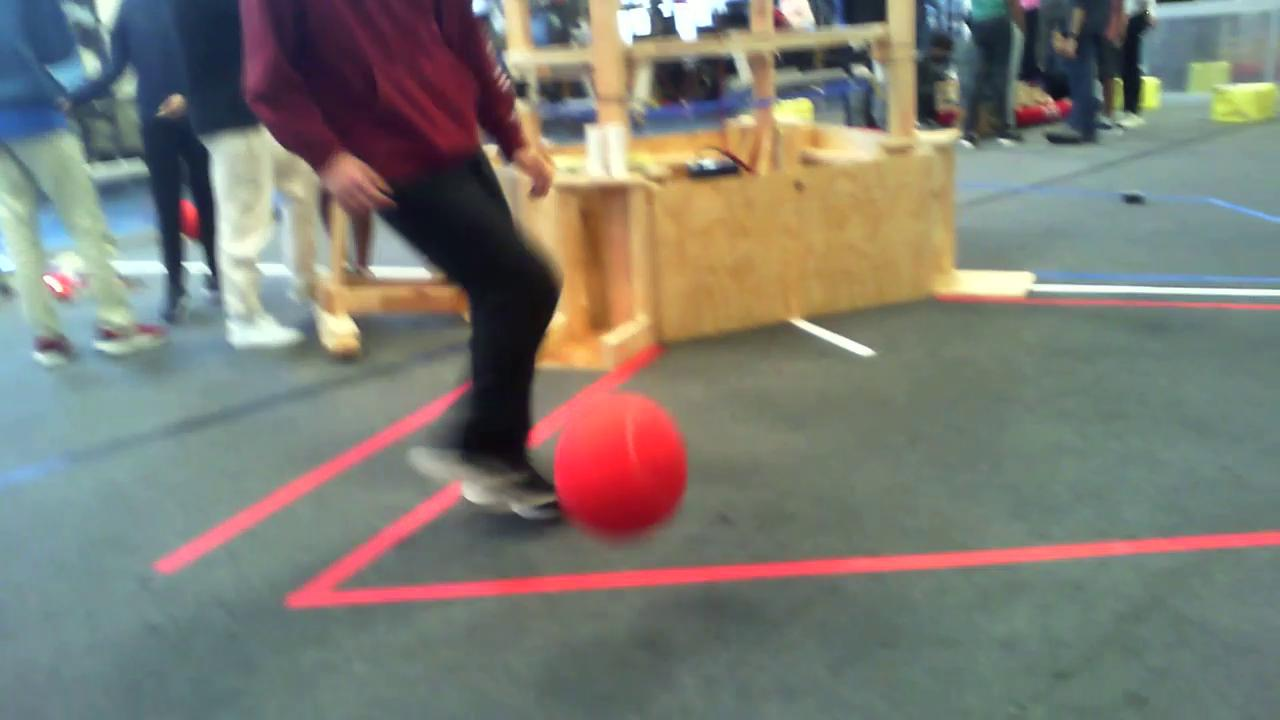Red_Ball: (527, 383, 715, 542)
